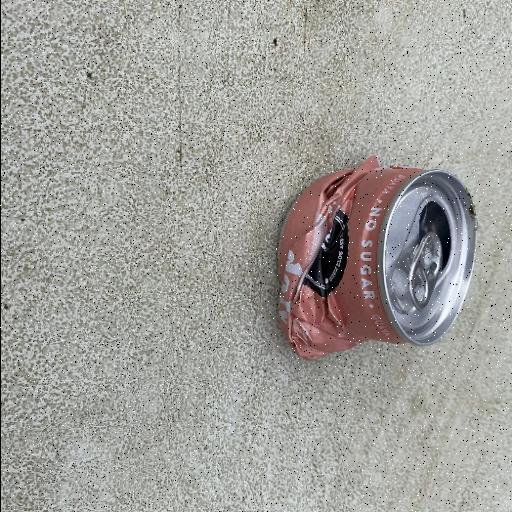Metal: (274, 154, 478, 362)
